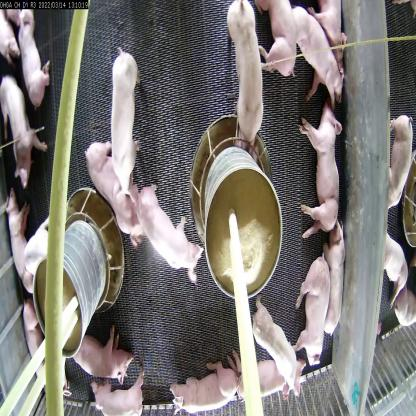Pig: (124, 171, 206, 288), (226, 0, 280, 176), (84, 137, 151, 246), (296, 101, 347, 240), (288, 0, 348, 108), (226, 334, 309, 412), (0, 72, 51, 192), (249, 294, 305, 401), (110, 40, 146, 196), (22, 297, 72, 402), (167, 350, 244, 416), (15, 8, 60, 113), (71, 321, 138, 387), (291, 250, 326, 366), (2, 180, 38, 292), (319, 210, 346, 342), (307, 1, 352, 79), (386, 107, 416, 218), (257, 0, 297, 82), (83, 366, 148, 415), (379, 225, 407, 306)
